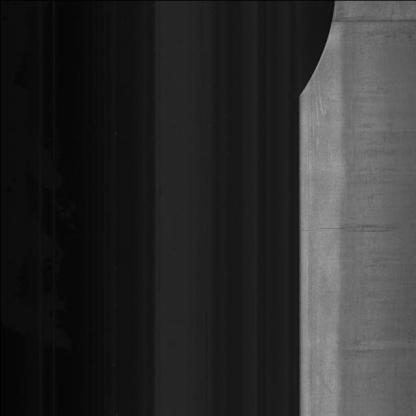welding_line: (324, 6, 414, 28)
